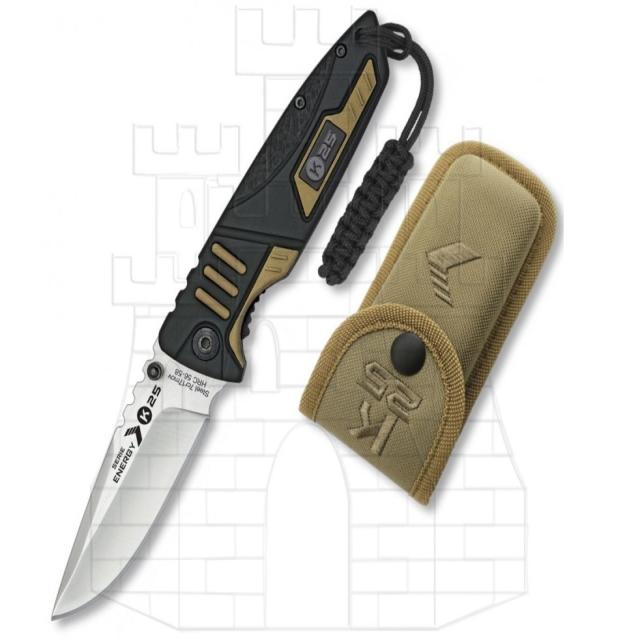knife: (37, 11, 400, 640)
